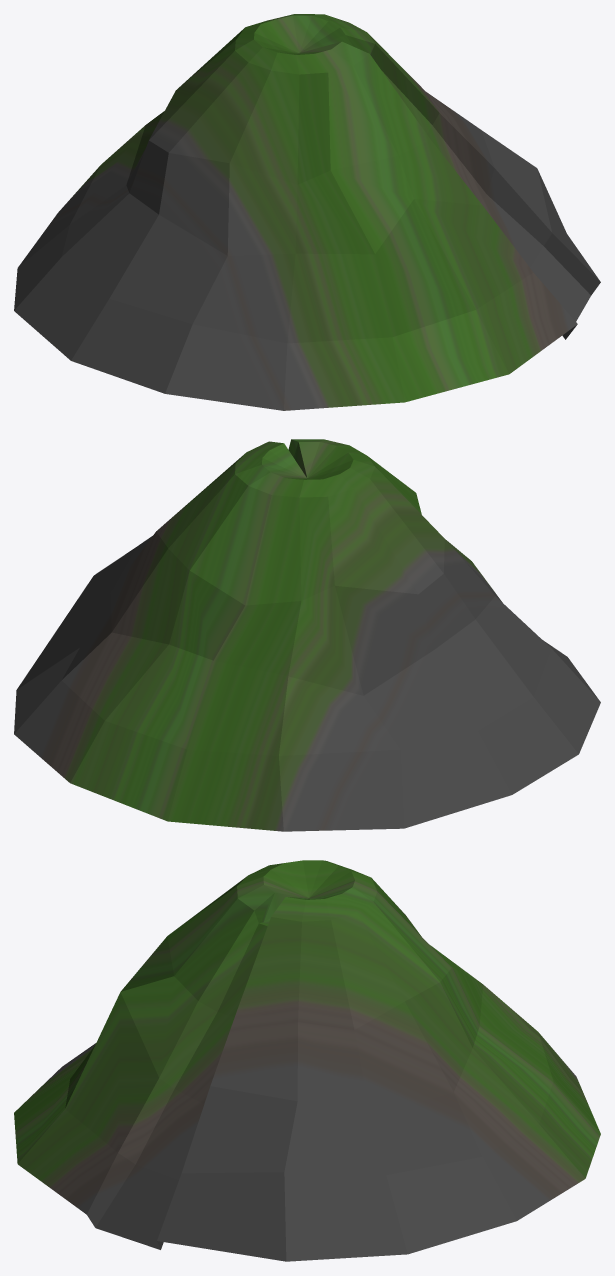
The model's file is Vulcano.fbx.
3 views of the same model, one above another, from view 1: azimuth 30°, elevation 25°; view 2: azimuth 150°, elevation 25°; view 3: azimuth 270°, elevation 25° (orthographic).
Visible parts, largest first — view 1: Vulcano; view 2: Vulcano; view 3: Vulcano.
Boxes of the visible parts, <box> form: Vulcano: <box>14,14,600,410</box>; Vulcano: <box>14,439,600,831</box>; Vulcano: <box>14,860,600,1261</box>.
Bounding box in the file's own units: 171 × 86.16 × 170.
Materials: 1 (1 with a texture image).
